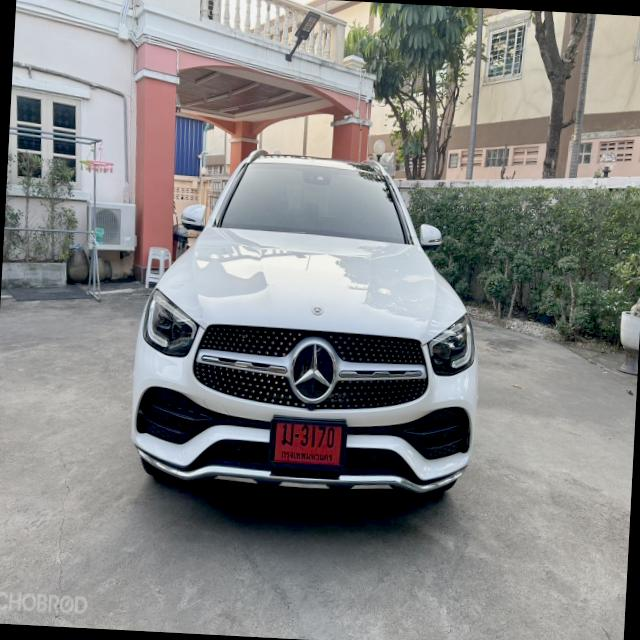license_plate: (267, 410, 346, 472)
